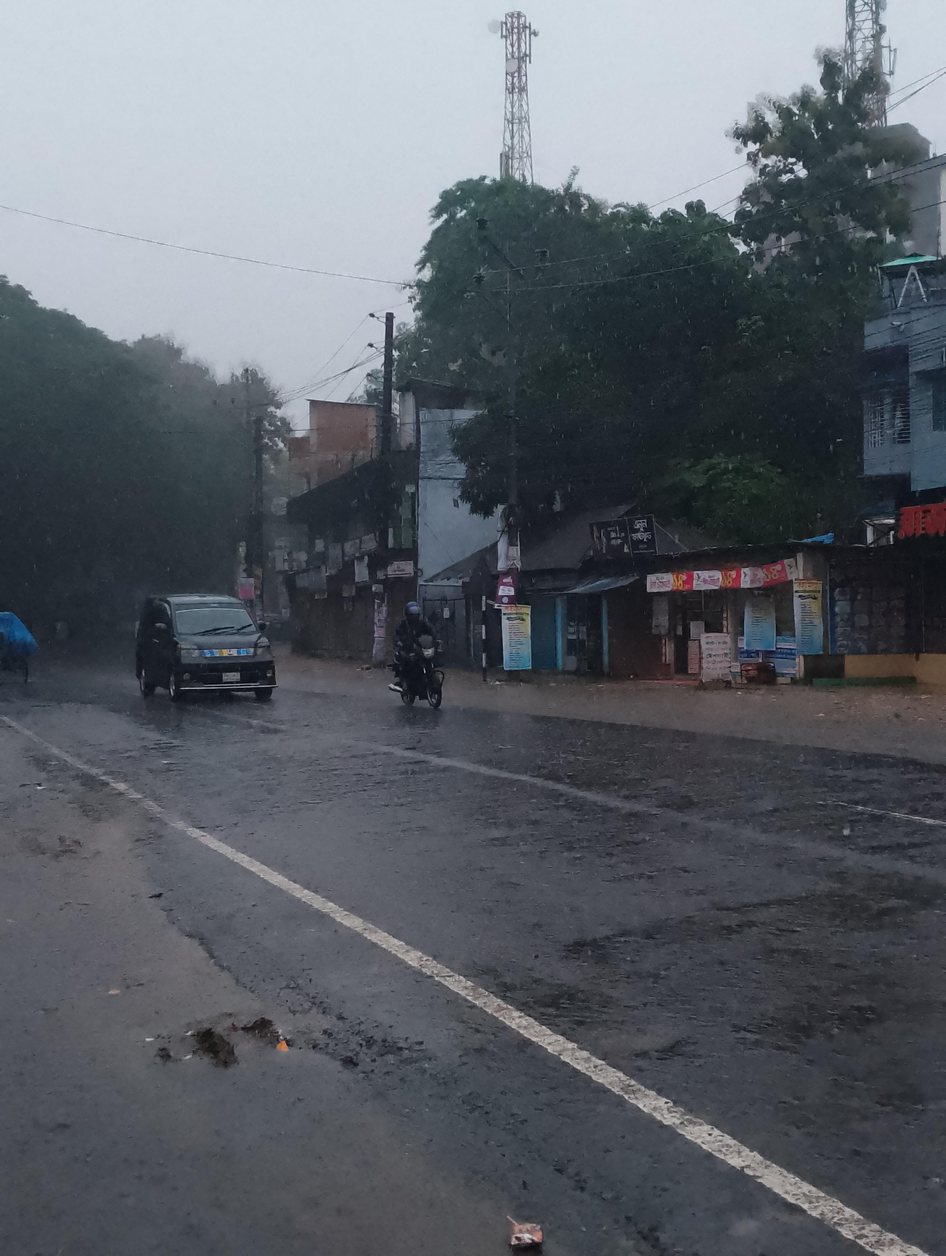Bike: (379, 590, 467, 732)
Car: (119, 578, 298, 720)
